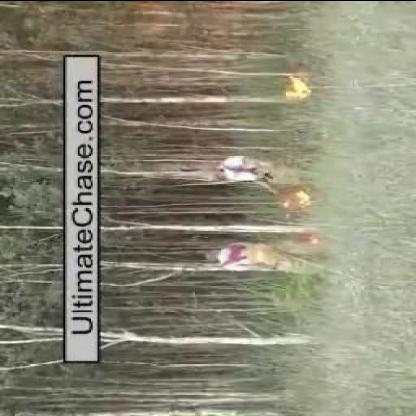foggia-v2-map80-epoch100 - v1 4323: (281, 190, 312, 206), (288, 75, 308, 99)
